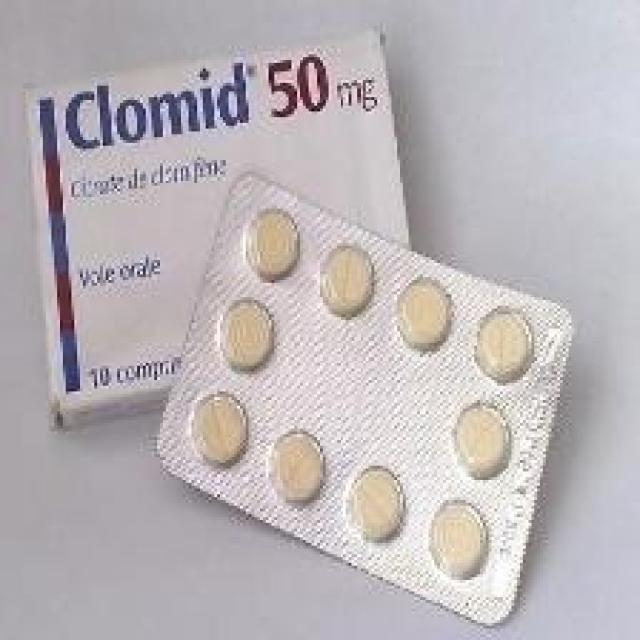Medicine: (41, 25, 568, 639)
